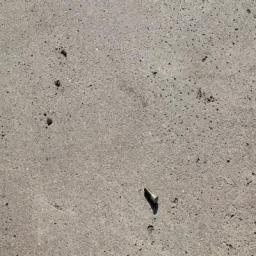FOD: (142, 186, 164, 216)
